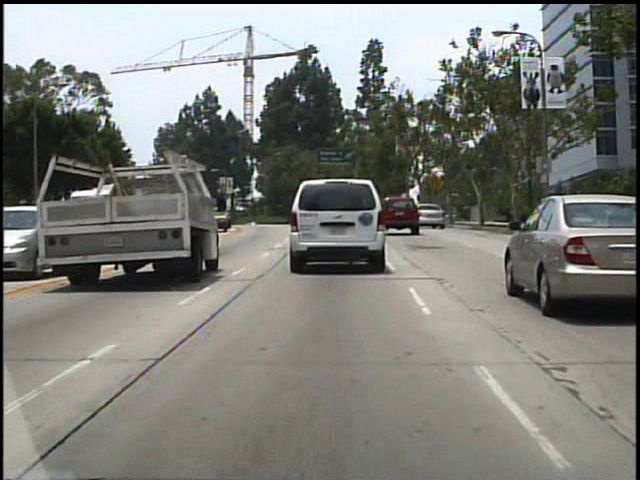person: (417, 193, 431, 225)
